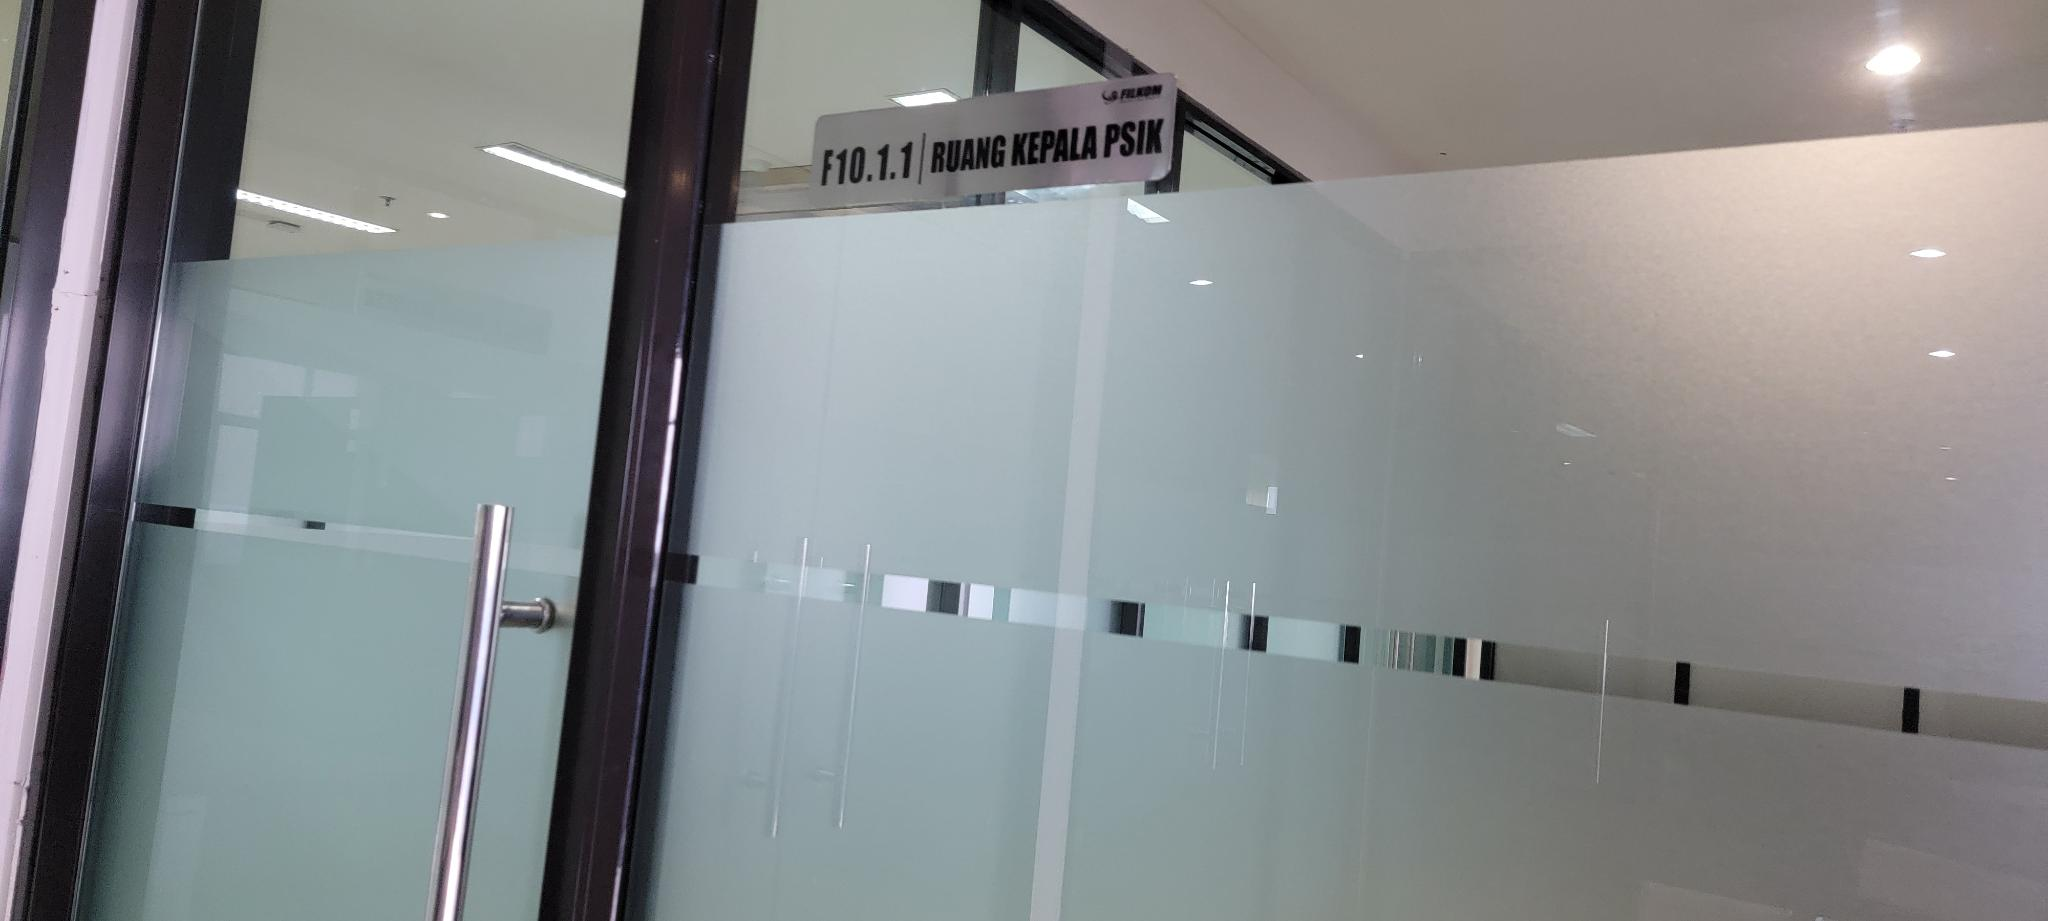plate: (807, 74, 1177, 209)
